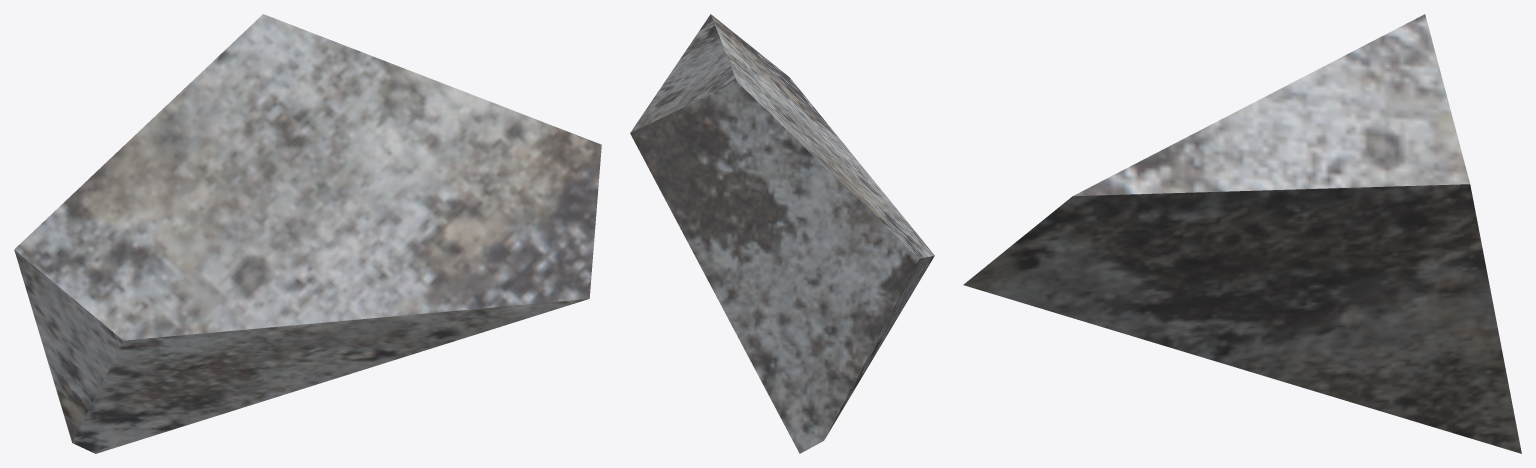
Rendered from Asteroid_Large_001_02_012_03_026.fbx.
3 renders of one model, left to right at view 1: azimuth 30°, elevation 25°; view 2: azimuth 150°, elevation 25°; view 3: azimuth 270°, elevation 25°, orthographic. The views are drawn at different scales.
Visible parts, largest first — view 1: Asteroid_Large_001_02_012_03_026; view 2: Asteroid_Large_001_02_012_03_026; view 3: Asteroid_Large_001_02_012_03_026.
Part boxes in pixels (x1,y1,x2,y2): Asteroid_Large_001_02_012_03_026: [14, 14, 601, 453]; Asteroid_Large_001_02_012_03_026: [630, 14, 934, 453]; Asteroid_Large_001_02_012_03_026: [963, 14, 1521, 453].
Bounding box in the file's own units: 5.76 × 5.57 × 5.51.
